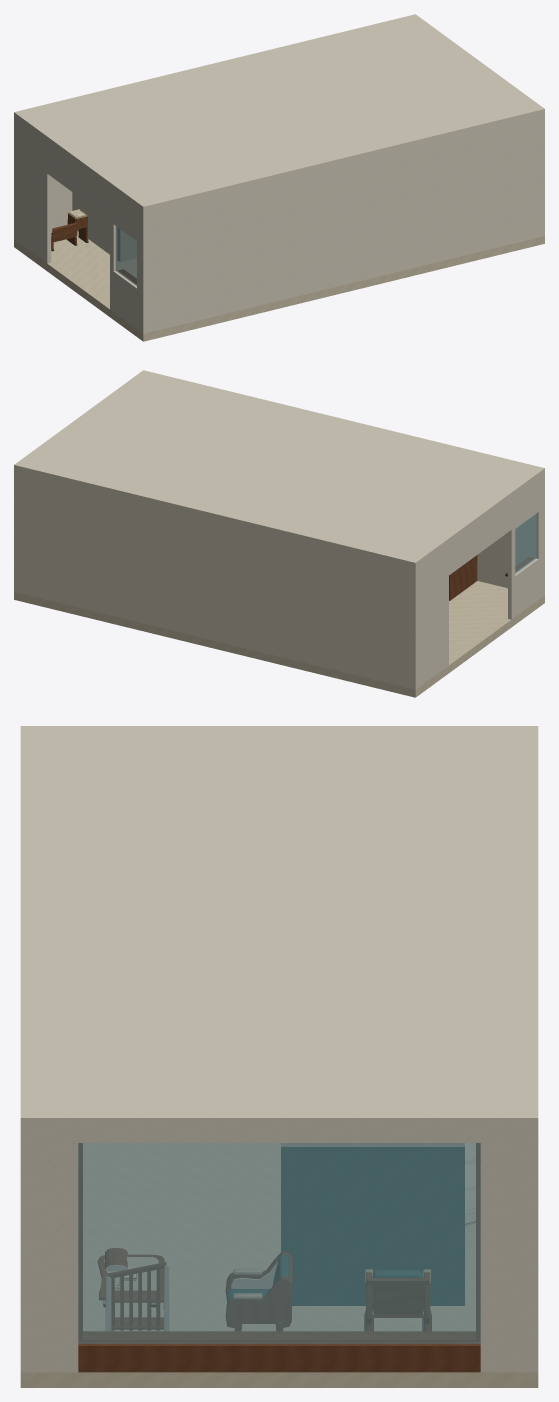
The model's file is QuietGroveBank_153_r001.glb.
The picture shows the model from 3 angles, top to bottom: view 1: azimuth 30°, elevation 25°; view 2: azimuth 150°, elevation 25°; view 3: azimuth 270°, elevation 25°; orthographic projection. The views are drawn at different scales.
Parts seen in each view (by area): view 1: QG153_Ceiling, QG153_NorthSide, QG153_RoomFloor, QG153_EntryShoulderSouth, QG153_EntryHeader, QG153_StreetWindowLower, QG153_WashEntrySide, QG153_SouthSide, QG153_StreetWindowUpper, QG153_ScreenedStreetGlass, QGB153_CourtSouthPier; view 2: QG153_Ceiling, QG153_SouthSide, QG153_RoomFloor, QG153_EntryShoulderSouth, QG153_NorthSide, QG153_EntryHeader, QG153_StreetWindowLower, QG153_StreetWindowUpper, QG153_ScreenedStreetGlass, QG153_EntryPrivacyDogleg; view 3: QG153_Ceiling, QGB153_PrivateCourtGlass, QG153_RoomFloor, QG153_Cocoon01_RearLiner, QGB153_CourtNorthPier, QGB153_CourtSouthPier, QGB153_CourtSill, QGB153_CourtHeader, QGB153_DeepReveal_0.34, QG153_NorthSide, QG153_SouthSide, QG153_QG153_DayReadingChair__DAY_CHAIR_L_swept_walnut_cheek (+4 smaller).
Boxes of the visible parts, bbox=[...] form: QG153_Ceiling: bbox=[14, 14, 544, 211]; QG153_NorthSide: bbox=[141, 114, 544, 333]; QG153_RoomFloor: bbox=[14, 231, 544, 341]; QG153_EntryShoulderSouth: bbox=[16, 119, 51, 263]; QG153_EntryHeader: bbox=[46, 142, 110, 219]; QG153_StreetWindowLower: bbox=[110, 269, 141, 331]; QG153_WashEntrySide: bbox=[72, 192, 123, 261]; QG153_SouthSide: bbox=[14, 117, 72, 240]; QG153_StreetWindowUpper: bbox=[110, 188, 141, 243]; QG153_ScreenedStreetGlass: bbox=[115, 226, 136, 285]; QGB153_CourtSouthPier: bbox=[537, 114, 544, 236]; QG153_Ceiling: bbox=[14, 370, 544, 567]; QG153_SouthSide: bbox=[14, 470, 417, 689]; QG153_RoomFloor: bbox=[14, 581, 544, 697]; QG153_EntryShoulderSouth: bbox=[417, 544, 448, 687]; QG153_NorthSide: bbox=[477, 473, 544, 596]; QG153_EntryHeader: bbox=[448, 497, 512, 575]; QG153_StreetWindowLower: bbox=[508, 556, 542, 619]; QG153_StreetWindowUpper: bbox=[510, 475, 542, 531]; QG153_ScreenedStreetGlass: bbox=[515, 514, 536, 573]; QG153_EntryPrivacyDogleg: bbox=[449, 555, 477, 600]; QG153_Ceiling: bbox=[20, 726, 538, 1128]; QGB153_PrivateCourtGlass: bbox=[78, 1143, 480, 1343]; QG153_RoomFloor: bbox=[20, 1143, 538, 1387]; QG153_Cocoon01_RearLiner: bbox=[285, 1147, 460, 1305]; QGB153_CourtNorthPier: bbox=[480, 1128, 538, 1372]; QGB153_CourtSouthPier: bbox=[20, 1128, 78, 1372]; QGB153_CourtSill: bbox=[78, 1342, 480, 1372]; QGB153_CourtHeader: bbox=[78, 1128, 480, 1142]; QGB153_DeepReveal_0.34: bbox=[83, 1331, 475, 1341]; QG153_NorthSide: bbox=[20, 1128, 29, 1372]; QG153_SouthSide: bbox=[529, 1128, 538, 1372]; QG153_QG153_DayReadingChair__DAY_CHAIR_L_swept_walnut_cheek: bbox=[226, 1276, 291, 1327].
Bounding box in the file's own units: 12.9 × 4.14 × 7.2.
64 materials, 49 textured.
